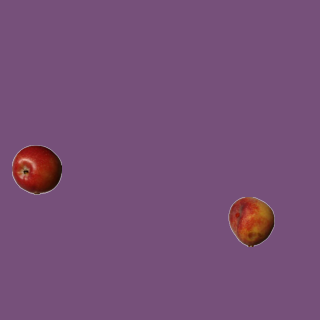Apple Braeburn: (11, 144, 61, 194)
Peach: (226, 196, 276, 246)
